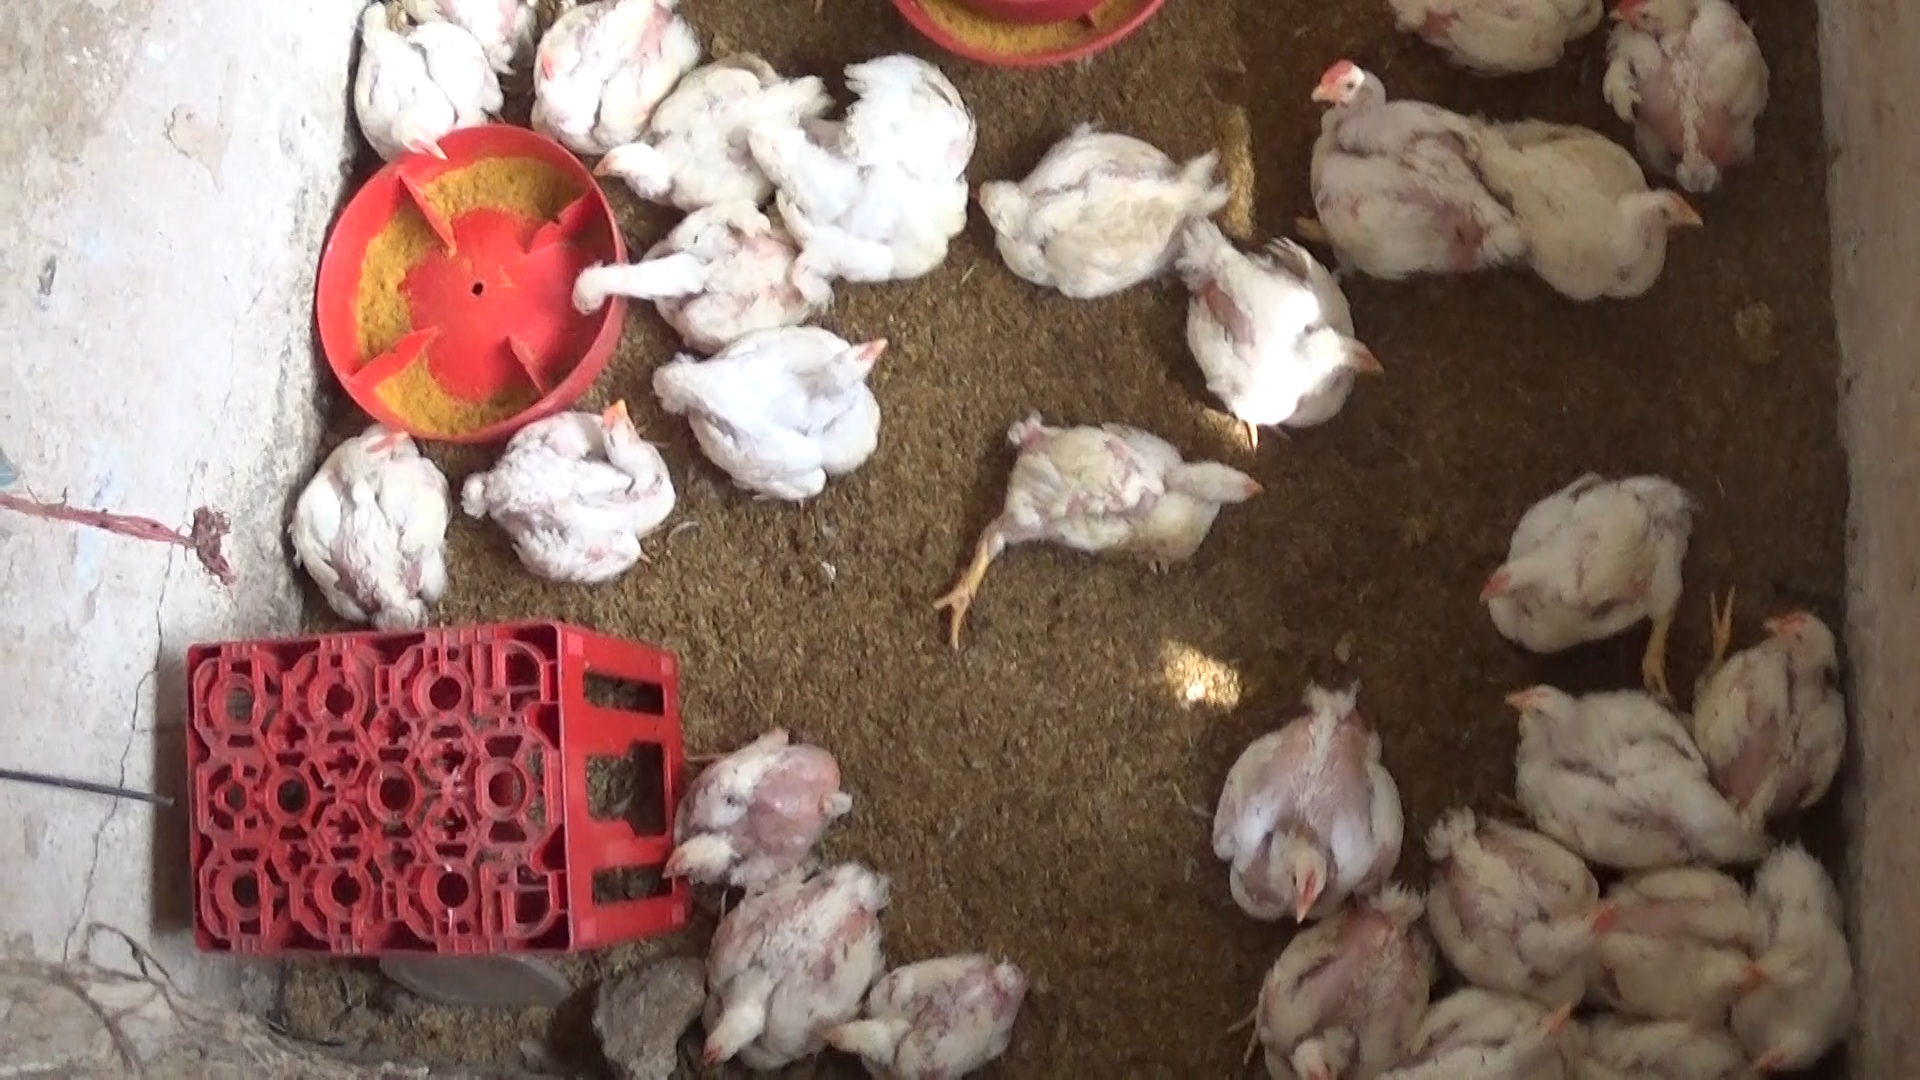Pollos: (928, 406, 1286, 655), (1461, 462, 1717, 717), (1300, 53, 1531, 295), (1205, 665, 1422, 920), (682, 837, 913, 1073), (1493, 671, 1766, 864), (967, 121, 1232, 314), (760, 53, 985, 277), (1477, 109, 1708, 324), (659, 314, 902, 513), (456, 382, 680, 589), (1174, 228, 1395, 436), (571, 61, 808, 222), (1600, 0, 1780, 208), (1250, 876, 1431, 1080), (1695, 588, 1847, 829), (560, 203, 827, 342), (284, 413, 458, 624), (1400, 814, 1613, 984), (653, 721, 847, 902), (1572, 862, 1793, 1009), (510, 0, 698, 148), (1760, 839, 1871, 1079), (1377, 957, 1592, 1080), (820, 942, 1033, 1065), (375, 0, 517, 169)
